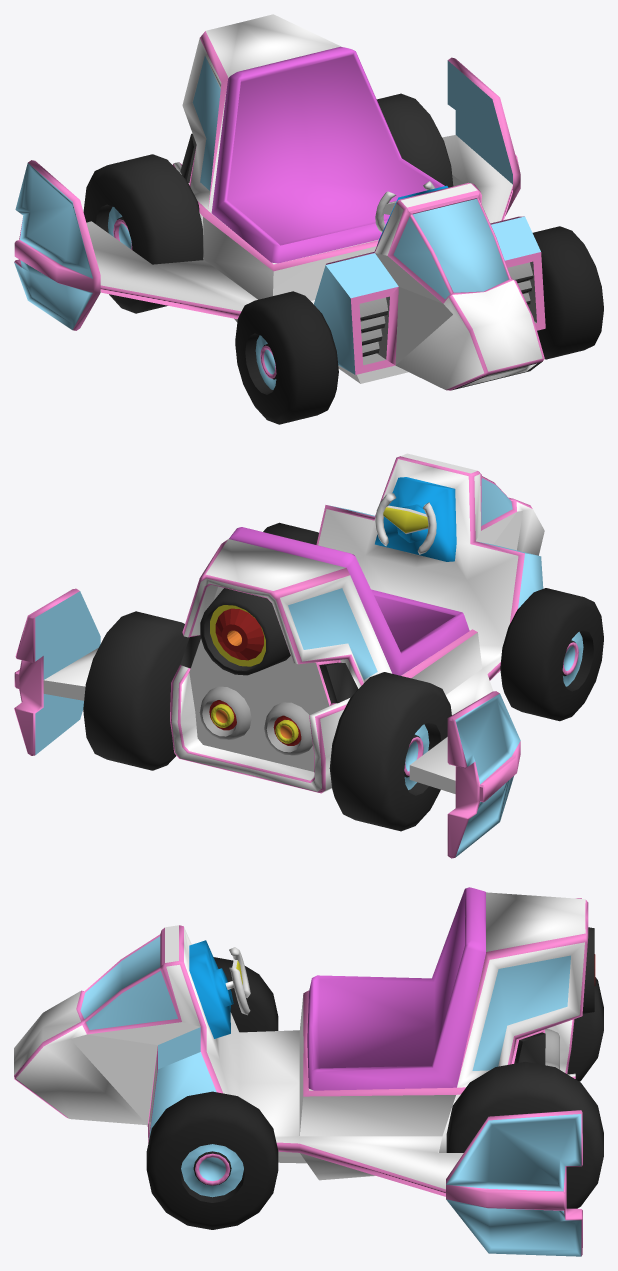
Rendered from 04_XE HONG TRANG.fbx.
3 renders of one model, top to bottom at view 1: azimuth 30°, elevation 25°; view 2: azimuth 150°, elevation 25°; view 3: azimuth 270°, elevation 25°, orthographic. The views are drawn at different scales.
Parts seen in each view (by area): view 1: Than Xe, banh2, banh1, banh3, banh4, Vo Lang; view 2: Than Xe, banh1, banh4, banh2, Vo Lang, banh3; view 3: Than Xe, banh3, banh4, banh2, banh1, Vo Lang.
Part boxes in pixels (left/top/right/bottom): Than Xe: left=14, top=14, right=545, bottom=390; banh2: left=235, top=291, right=338, bottom=424; banh1: left=83, top=154, right=203, bottom=313; banh3: left=532, top=226, right=603, bottom=359; banh4: left=376, top=93, right=453, bottom=187; Vo Lang: left=375, top=181, right=435, bottom=232; Than Xe: left=14, top=453, right=544, bottom=858; banh1: left=329, top=672, right=451, bottom=831; banh4: left=83, top=611, right=189, bottom=770; banh2: left=500, top=588, right=603, bottom=721; Vo Lang: left=375, top=493, right=436, bottom=554; banh3: left=263, top=522, right=318, bottom=544; Than Xe: left=14, top=887, right=595, bottom=1256; banh3: left=146, top=1091, right=278, bottom=1229; banh4: left=446, top=1061, right=603, bottom=1208; banh2: left=213, top=957, right=278, bottom=1032; banh1: left=567, top=977, right=603, bottom=1081; Vo Lang: left=229, top=947, right=250, bottom=1015.
Size of the model in its own units: 186 by 87.17 by 195.
